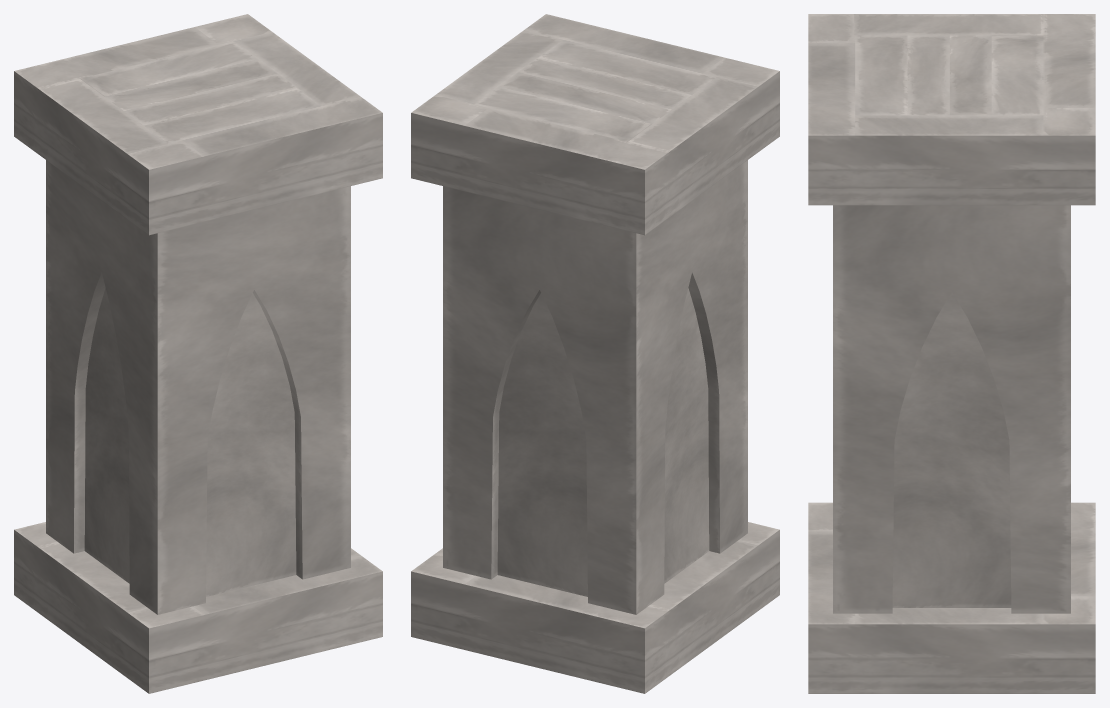
The model's file is GuardRail_C_CornerPost_A.fbx.
3 views of the same model, side by side, from view 1: azimuth 30°, elevation 25°; view 2: azimuth 150°, elevation 25°; view 3: azimuth 270°, elevation 25° (orthographic). The views are drawn at different scales.
Visible parts, largest first — view 1: GuardRail_C_CornerPost_A; view 2: GuardRail_C_CornerPost_A; view 3: GuardRail_C_CornerPost_A.
Boxes of the visible parts, x1,y1,x2,y2 form: GuardRail_C_CornerPost_A: [14, 14, 382, 693]; GuardRail_C_CornerPost_A: [411, 14, 779, 693]; GuardRail_C_CornerPost_A: [808, 14, 1095, 693].
Bounding box in the file's own units: 0.5 × 0.5 × 1.07.
